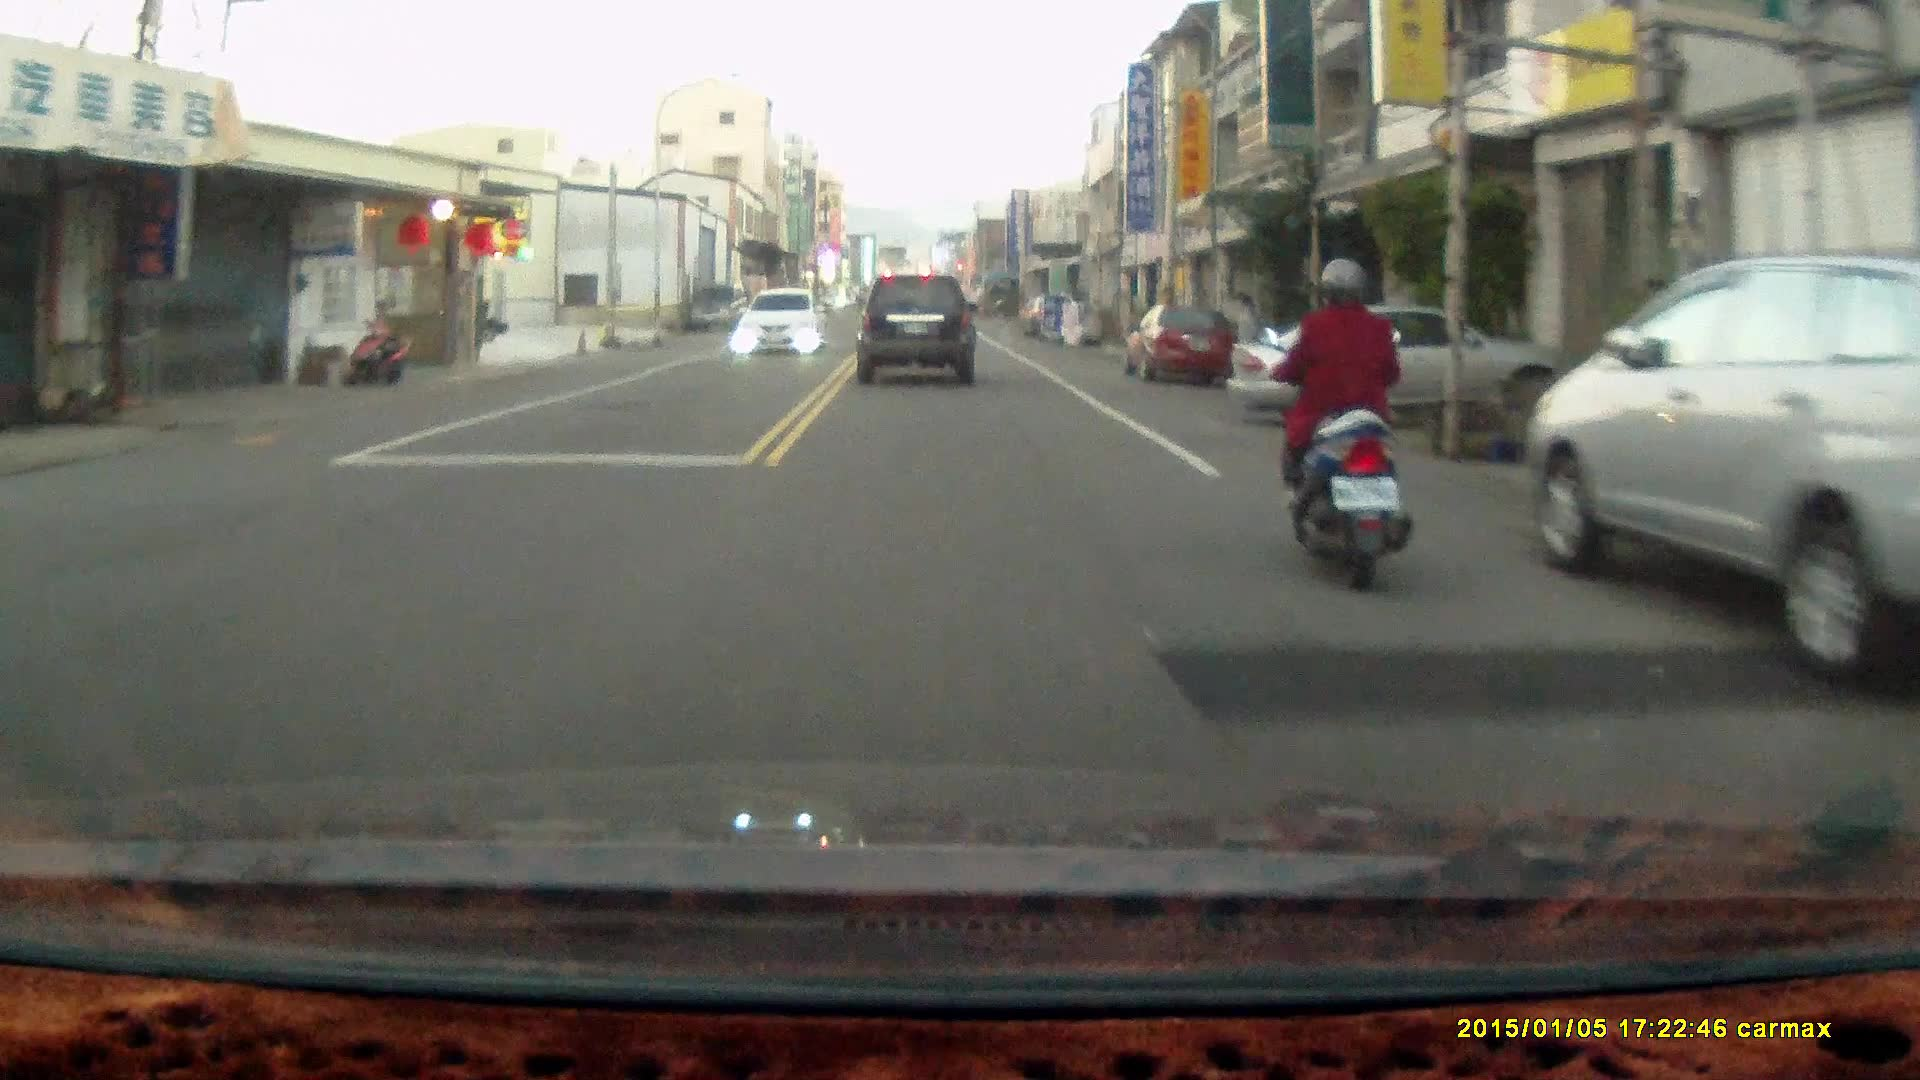rider: (1249, 256, 1417, 593)
vehicle: (1523, 249, 1915, 680), (1233, 300, 1562, 429), (856, 267, 981, 381), (1123, 303, 1243, 381), (734, 285, 829, 352), (688, 281, 750, 330)
